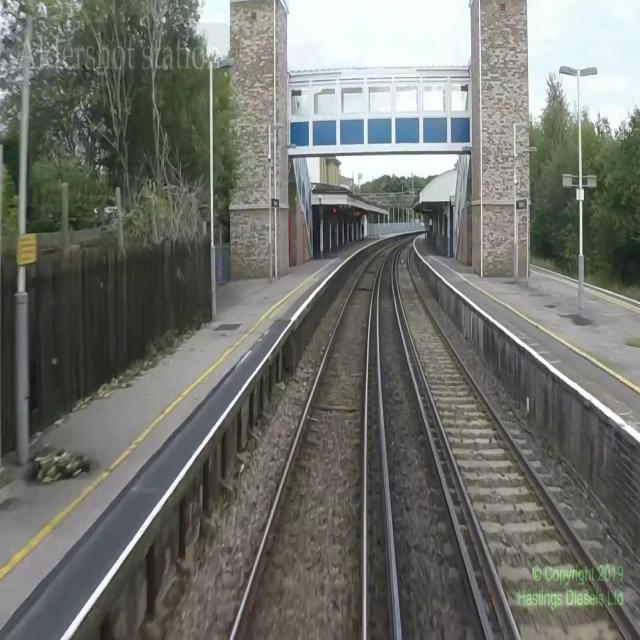rail-track: (396, 241, 639, 639), (234, 239, 403, 639)
